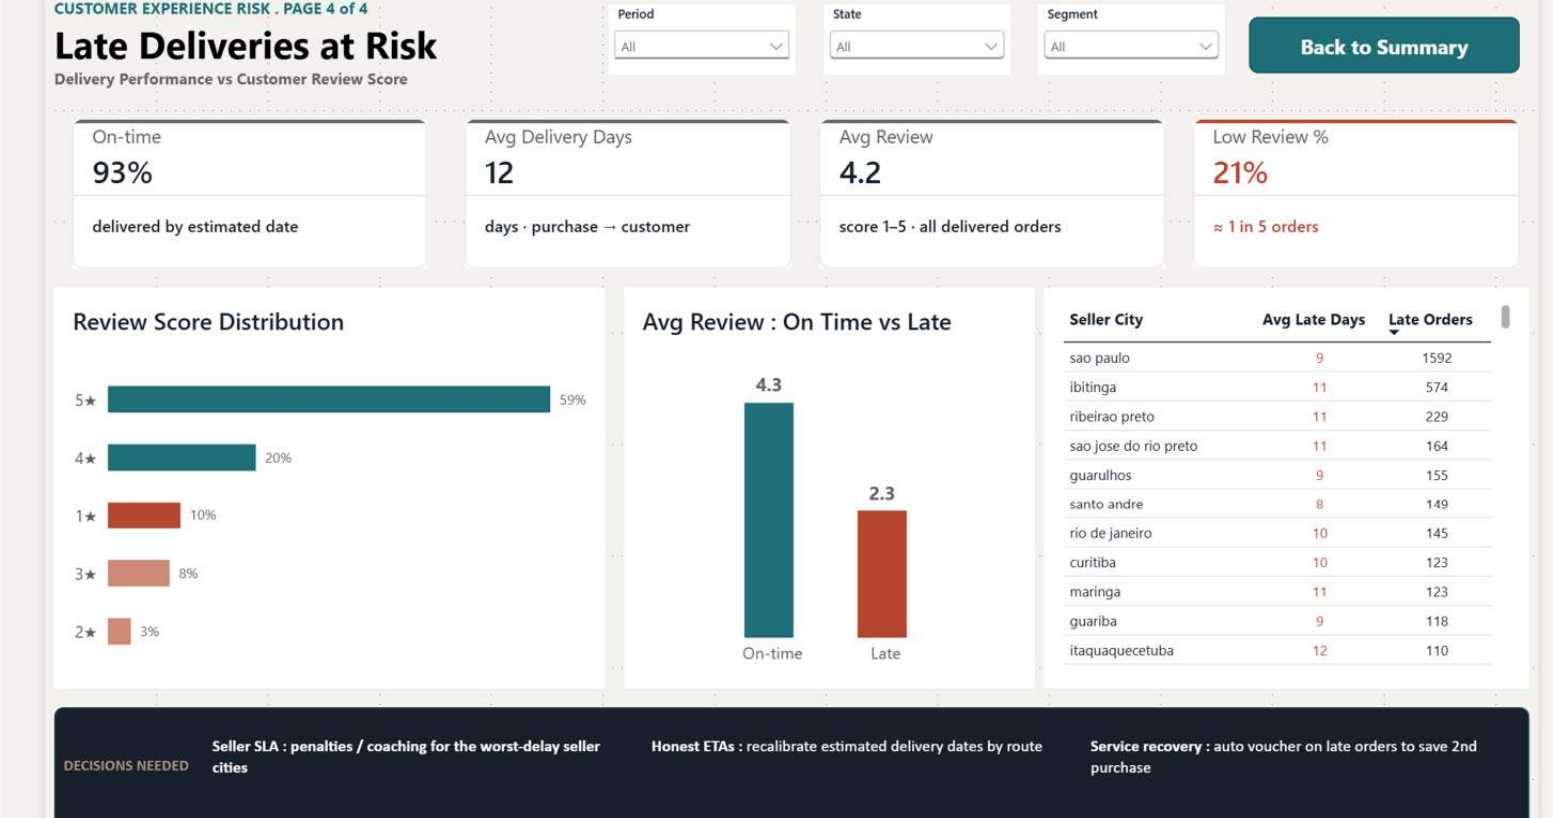

This screenshot's page, from the dashboard's own definition file:
{"tool":"powerbi","page":{"name":"Deliveries","canvas":[1280,720],"ordinal":3},"visuals":[{"type":"textbox","box":[8,0,528,96],"z":0},{"type":"shape","box":[1032,16,232,48],"z":1000},{"type":"slicer","title":"Period:","fields":{"Values":["dim_date.Year"]},"box":[483.4,5.7,160,60],"z":2000},{"type":"slicer","title":"State:","fields":{"Values":["fact_orders.customer_state"]},"box":[667.4,5.7,160,60],"z":3000},{"type":"slicer","title":"Segment:","fields":{"Values":["dim_customer.Segment"]},"box":[851.4,5.7,160,60],"z":4000},{"type":"cardVisual","fields":{"Data":["_Measures.On-time"]},"box":[24,104,304,128],"z":5000},{"type":"cardVisual","fields":{"Data":["_Measures.Avg Delivery Days"]},"box":[360,104,280,128],"z":6000},{"type":"cardVisual","fields":{"Data":["_Measures.Low Review %"]},"box":[984,104,280,128],"z":7000},{"type":"cardVisual","fields":{"Data":["_Measures.Avg Review"]},"box":[664,104,296,128],"z":8000},{"type":"clusteredBarChart","title":"Review Score Distribution","fields":{"Category":["fact_orders.Review Label"],"Y":["_Measures.% of Orders"]},"box":[8,248,472,344],"z":9000},{"type":"columnChart","title":"Avg Review : On Time vs Late","fields":{"Category":["fact_orders.delivery_status"],"Y":["_Measures.Avg Review"]},"box":[496,248,352,344],"z":10000},{"type":"tableEx","fields":{"Values":["fact_order_items.seller_city","_Measures.Avg Late Days (Seller)","_Measures.Late Orders (Seller)"]},"box":[856,248,416,344],"z":11000},{"type":"shape","box":[8,608,1264,104],"z":12000},{"type":"textbox","box":[144,632,352,56],"z":13000},{"type":"textbox","box":[16,648,112,32],"z":14000},{"type":"textbox","box":[520,632,352,56],"z":15000},{"type":"textbox","box":[896,632,352,56],"z":16000}]}

Visuals, with their boxes on the page's 1280x720 design canvas (x1, y1, x2, y2). These are canvas units, not pixel positions in the 1553x818 screenshot, which may show the page scaled, cropped or inside an application window:
textbox: <region>8, 0, 536, 96</region>
shape: <region>1032, 16, 1264, 64</region>
"Period:" slicer: <region>483, 6, 643, 66</region>
"State:" slicer: <region>667, 6, 827, 66</region>
"Segment:" slicer: <region>851, 6, 1011, 66</region>
cardVisual - _Measures.On-time: <region>24, 104, 328, 232</region>
cardVisual - _Measures.Avg Delivery Days: <region>360, 104, 640, 232</region>
cardVisual - _Measures.Low Review %: <region>984, 104, 1264, 232</region>
cardVisual - _Measures.Avg Review: <region>664, 104, 960, 232</region>
"Review Score Distribution" clusteredBarChart: <region>8, 248, 480, 592</region>
"Avg Review : On Time vs Late" columnChart: <region>496, 248, 848, 592</region>
tableEx - fact_order_items.seller_city x _Measures.Avg Late Days (Seller): <region>856, 248, 1272, 592</region>
shape: <region>8, 608, 1272, 712</region>
textbox: <region>144, 632, 496, 688</region>
textbox: <region>16, 648, 128, 680</region>
textbox: <region>520, 632, 872, 688</region>
textbox: <region>896, 632, 1248, 688</region>
